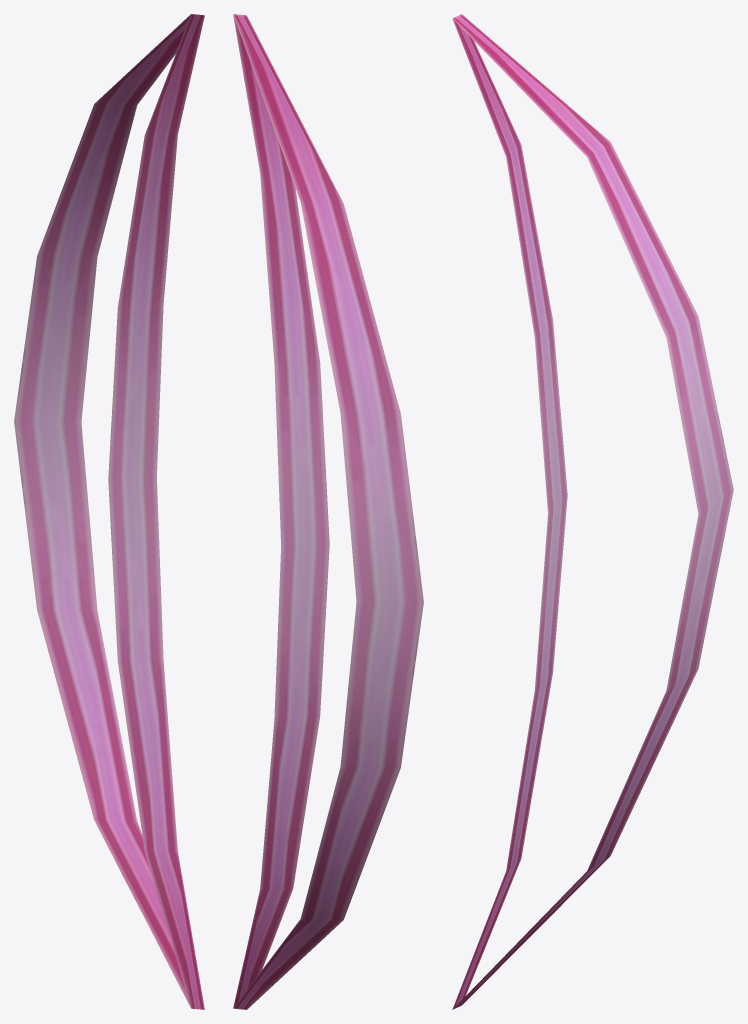
3 renders of one model, left to right at view 1: azimuth 30°, elevation 25°; view 2: azimuth 210°, elevation 25°; view 3: azimuth 270°, elevation 25°, orthographic.
Visible parts, largest first — view 1: model_Object110; view 2: model_Object110; view 3: model_Object110.
Boxes of the visible parts, left/top/right/bottom form: model_Object110: left=14, top=14, right=204, bottom=1009; model_Object110: left=233, top=14, right=423, bottom=1009; model_Object110: left=452, top=14, right=733, bottom=1009.
Bounding box in the file's own units: 0.0579 × 1.11 × 0.2849.
1 material, 1 textured.
